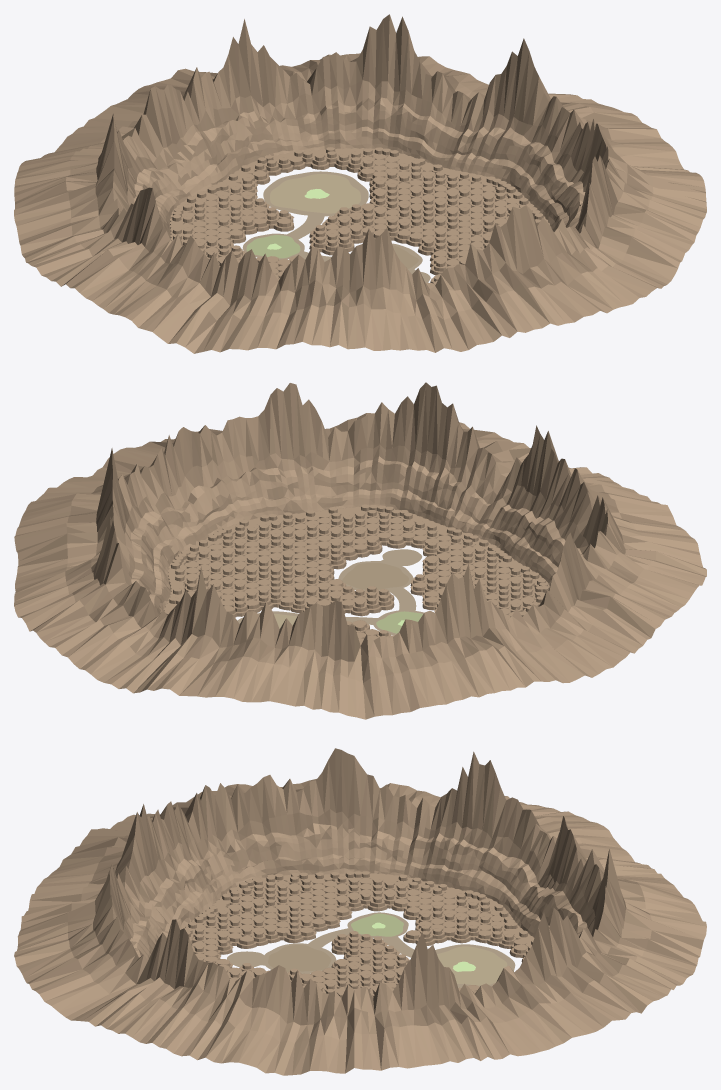
The model's file is map_dg_coracao.glb.
3 renders of one model, top to bottom at view 1: azimuth 30°, elevation 25°; view 2: azimuth 150°, elevation 25°; view 3: azimuth 270°, elevation 25°, orthographic.
Visible parts, largest first — view 1: Z_dg_coracao_penhascos, Z_dg_coracao_morro_parede_0_0, Z_dg_coracao_chao_trono, Z_dg_coracao_praca_trono, Z_dg_coracao_chao_seiva; view 2: Z_dg_coracao_penhascos, Z_dg_coracao_morro_parede_0_0, Z_dg_coracao_chao_raizes, Z_dg_coracao_chao_seiva, Z_dg_coracao_praca_chegada; view 3: Z_dg_coracao_penhascos, Z_dg_coracao_morro_parede_0_0, Z_dg_coracao_chao_trono, Z_dg_coracao_chao_raizes, Z_dg_coracao_chao_seiva.
Part boxes in pixels (x1,y1,x2,y2): Z_dg_coracao_penhascos: (14,14,706,353); Z_dg_coracao_morro_parede_0_0: (170,147,551,288); Z_dg_coracao_chao_trono: (270,174,360,213); Z_dg_coracao_praca_trono: (263,171,368,216); Z_dg_coracao_chao_seiva: (246,235,300,258); Z_dg_coracao_penhascos: (14,382,706,719); Z_dg_coracao_morro_parede_0_0: (164,504,549,645); Z_dg_coracao_chao_raizes: (342,563,408,589); Z_dg_coracao_chao_seiva: (376,611,422,633); Z_dg_coracao_praca_chegada: (382,549,422,565); Z_dg_coracao_penhascos: (14,748,706,1075); Z_dg_coracao_morro_parede_0_0: (184,871,534,997); Z_dg_coracao_chao_trono: (437,946,507,985); Z_dg_coracao_chao_raizes: (268,945,331,971); Z_dg_coracao_chao_seiva: (351,913,403,936).
Bounding box in the file's own units: 280 × 56.34 × 283.
